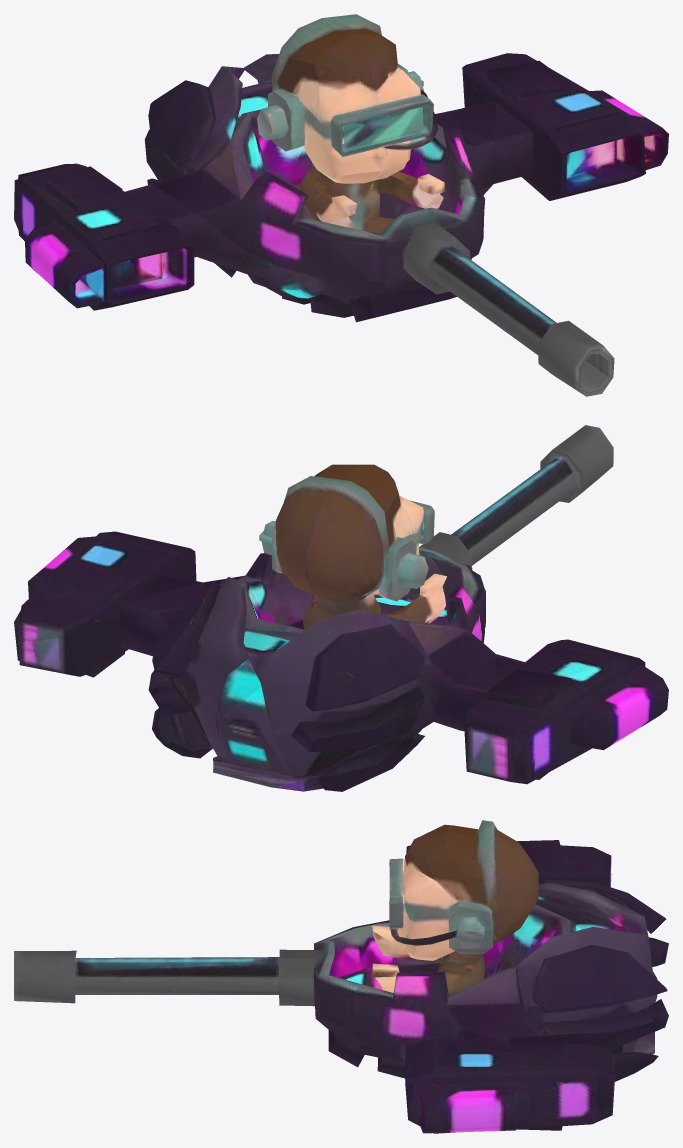
The model's file is chaser.glb.
3 views of the same model, one above another, from view 1: azimuth 30°, elevation 25°; view 2: azimuth 150°, elevation 25°; view 3: azimuth 270°, elevation 25° (orthographic). The views are drawn at different scales.
Visible parts, largest first — view 1: mesh_node; view 2: mesh_node; view 3: mesh_node.
Part boxes in pixels (x1,y1,x2,y2): mesh_node: (14,14,668,396); mesh_node: (14,425,668,791); mesh_node: (14,820,668,1133).
Bounding box in the file's own units: 0.959 × 0.415 × 1.
1 material, 1 textured.
